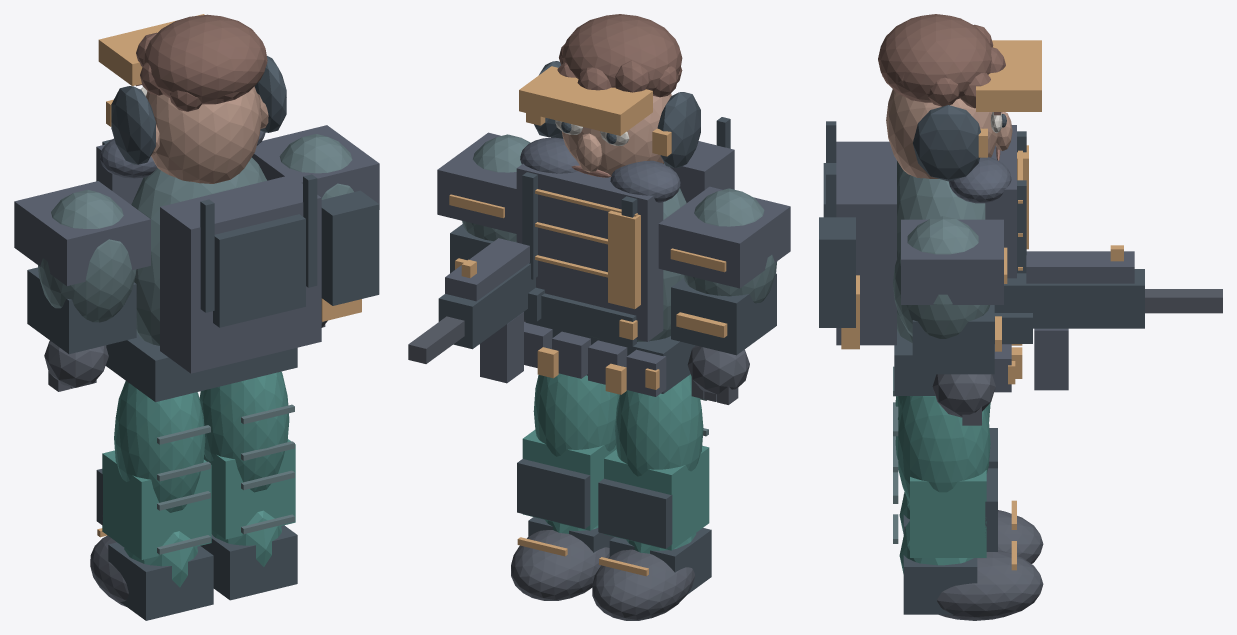
The model's file is ember.glb.
The picture shows the model from 3 angles, left to right: view 1: azimuth 30°, elevation 25°; view 2: azimuth 150°, elevation 25°; view 3: azimuth 270°, elevation 25°; orthographic projection. The views are drawn at different scales.
Parts seen in each view (by area): view 1: RigRoot_Model, HeadPivot_Model, LeftLegPivot_Model, LeftArmPivot_Model, RightLegPivot_Model, RightArmPivot_Model; view 2: RigRoot_Model, LeftLegPivot_Model, HeadPivot_Model, LeftArmPivot_Model, RightLegPivot_Model, RightArmPivot_Model; view 3: RigRoot_Model, RightLegPivot_Model, HeadPivot_Model, RightArmPivot_Model, LeftLegPivot_Model.
Part boxes in pixels (left/top/right/bottom): RigRoot_Model: left=96, top=131, right=379, bottom=402; HeadPivot_Model: left=98, top=14, right=286, bottom=183; LeftLegPivot_Model: left=90, top=381, right=213, bottom=620; LeftArmPivot_Model: left=14, top=181, right=150, bottom=391; RightLegPivot_Model: left=199, top=371, right=297, bottom=600; RightArmPivot_Model: left=252, top=125, right=379, bottom=327; RigRoot_Model: left=408, top=117, right=734, bottom=396; LeftLegPivot_Model: left=592, top=374, right=711, bottom=620; HeadPivot_Model: left=519, top=14, right=700, bottom=177; LeftArmPivot_Model: left=658, top=186, right=790, bottom=404; RightLegPivot_Model: left=511, top=373, right=619, bottom=600; RightArmPivot_Model: left=437, top=132, right=530, bottom=344; RigRoot_Model: left=819, top=121, right=1222, bottom=395; RightLegPivot_Model: left=893, top=396, right=1043, bottom=620; HeadPivot_Model: left=878, top=14, right=1041, bottom=181; RightArmPivot_Model: left=893, top=216, right=1007, bottom=425; LeftLegPivot_Model: left=893, top=366, right=1043, bottom=563.
Size of the model in its own units: 1.35 by 2.4 by 1.53.
